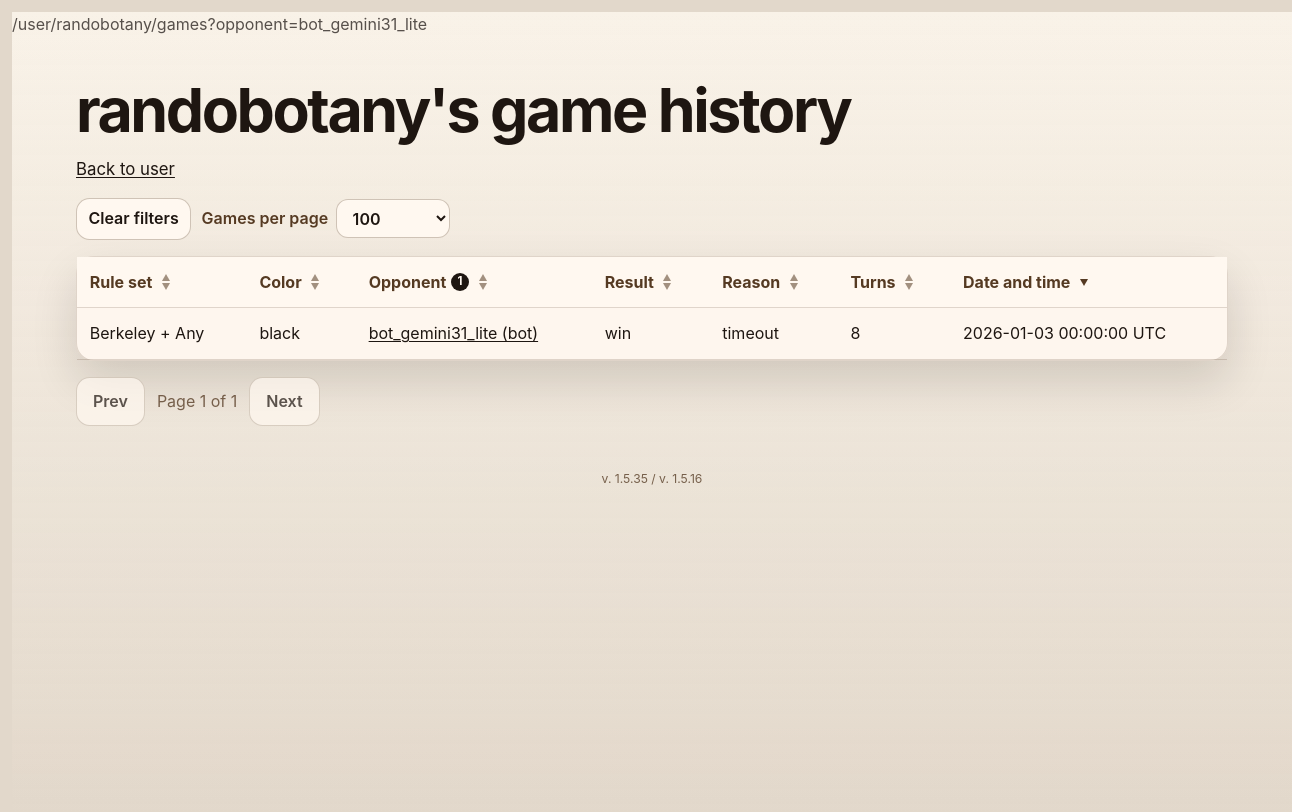
Test: GameHistoryPage › keeps_full_filter_options_available_when_a_filter_returns_one_game
The width and height of the screenshot is (1292, 812).
Check: the text with test id "location" shows "opponent=bot_gemini31_lite", box left=208, top=14, right=427, bottom=34
Check: the text with test id "location" does not show "bot%3A", box left=12, top=14, right=427, bottom=34
Click the button "Opponent 1".
click(419, 282)  # box left=369, top=270, right=469, bottom=294
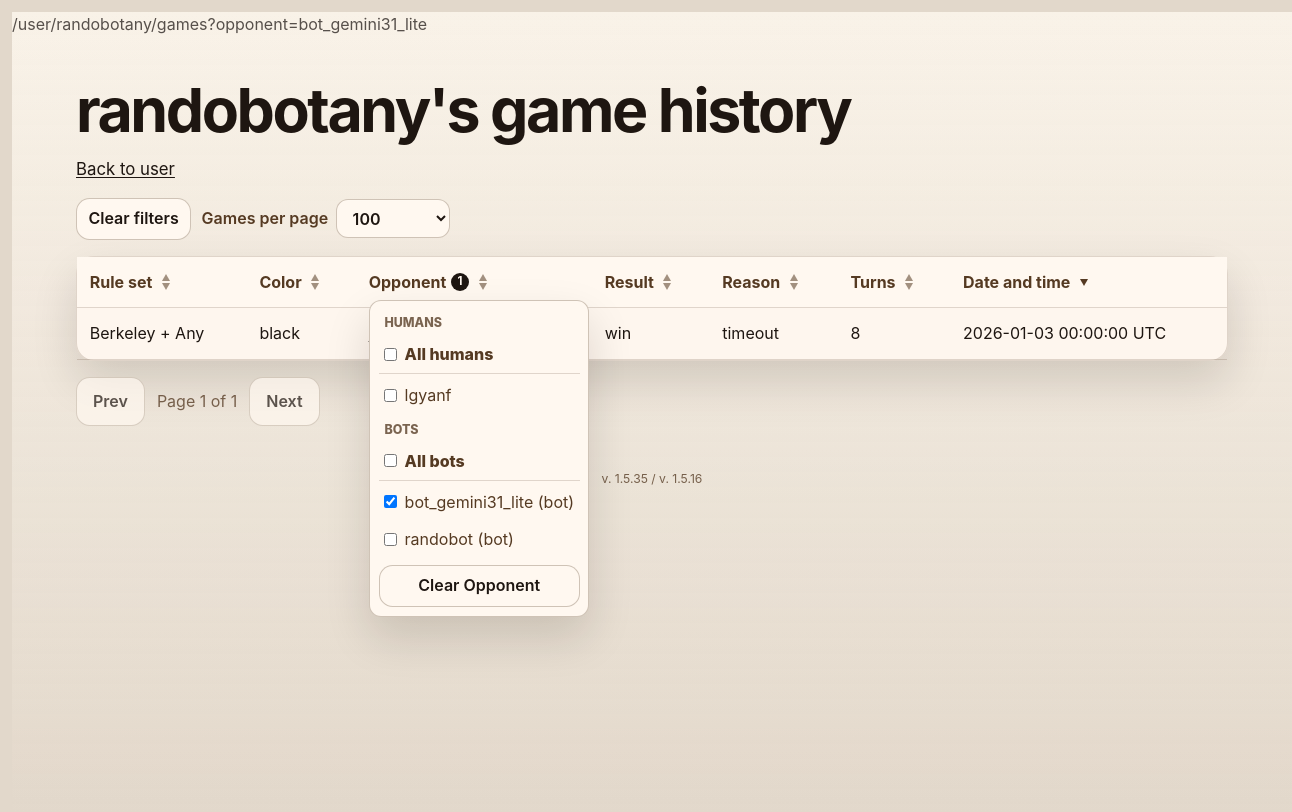
Check: the text "lgyanf" is shown, box left=384, top=385, right=452, bottom=405
Check: the checkbox labelled "lgyanf" is shown, box left=384, top=389, right=397, bottom=402
Check: the text "bot_gemini31_lite (bot)" is shown, box left=384, top=492, right=574, bottom=512
